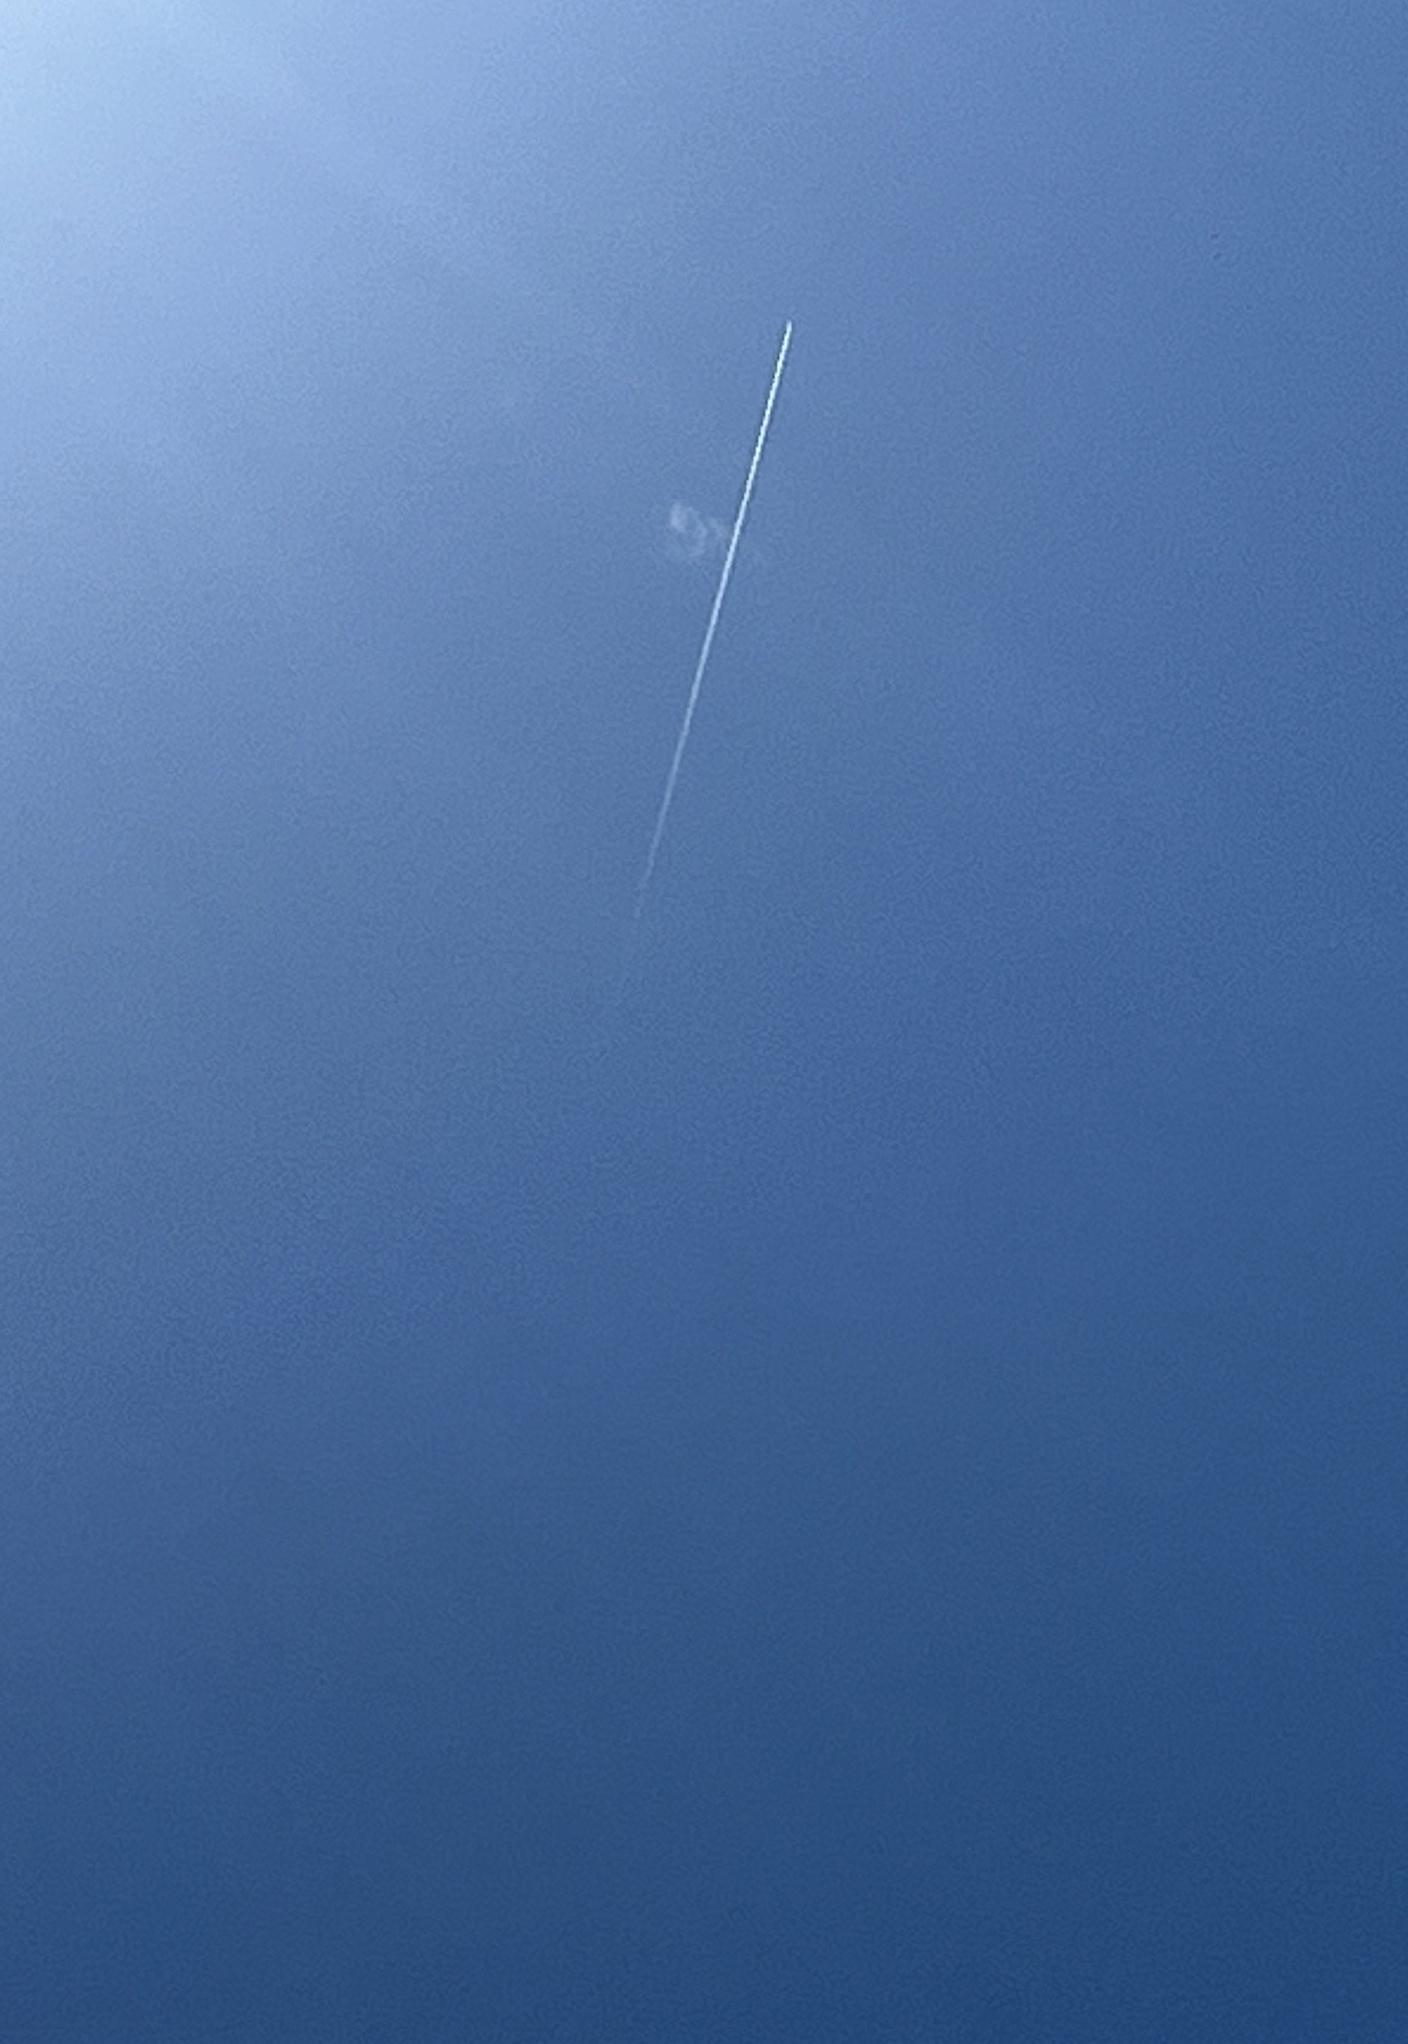Plane: (577, 300, 855, 921)
